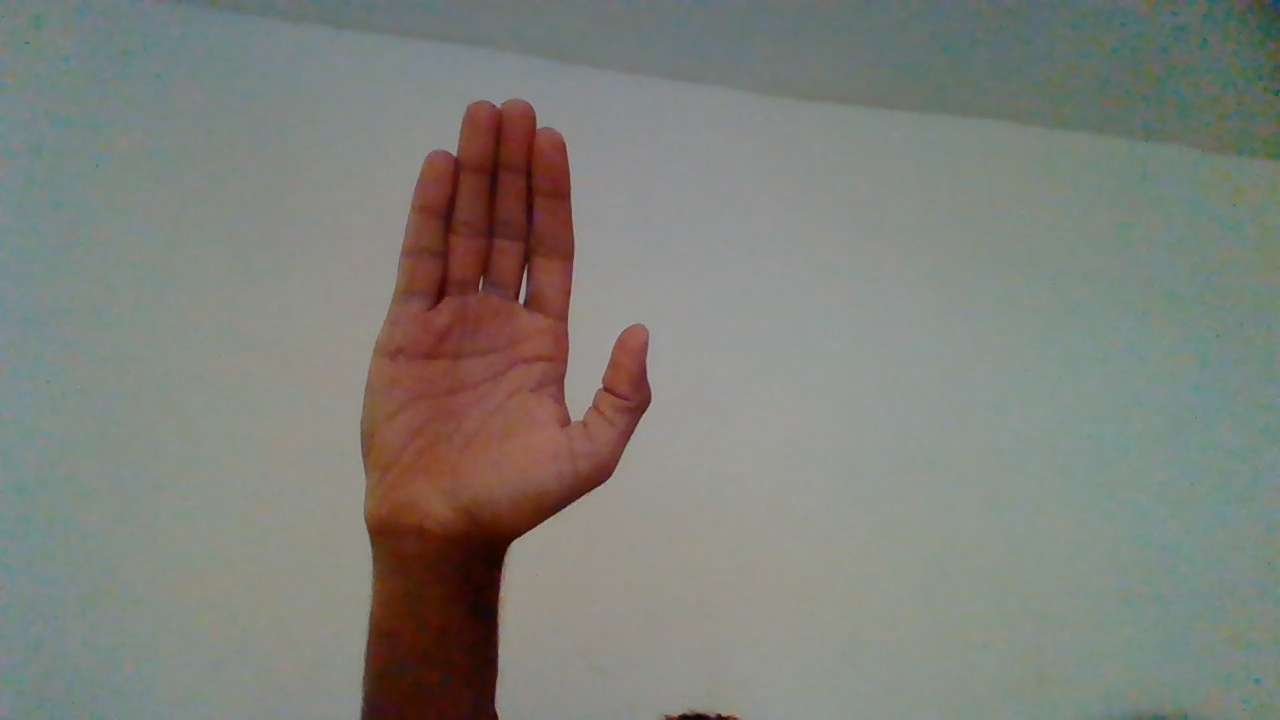ha: (360, 105, 662, 640)
